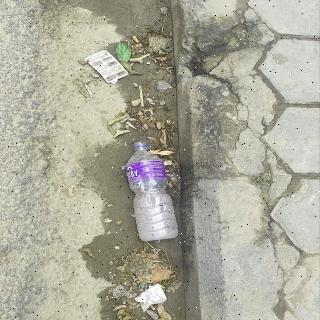Plastic-bottle: (123, 138, 184, 244)
